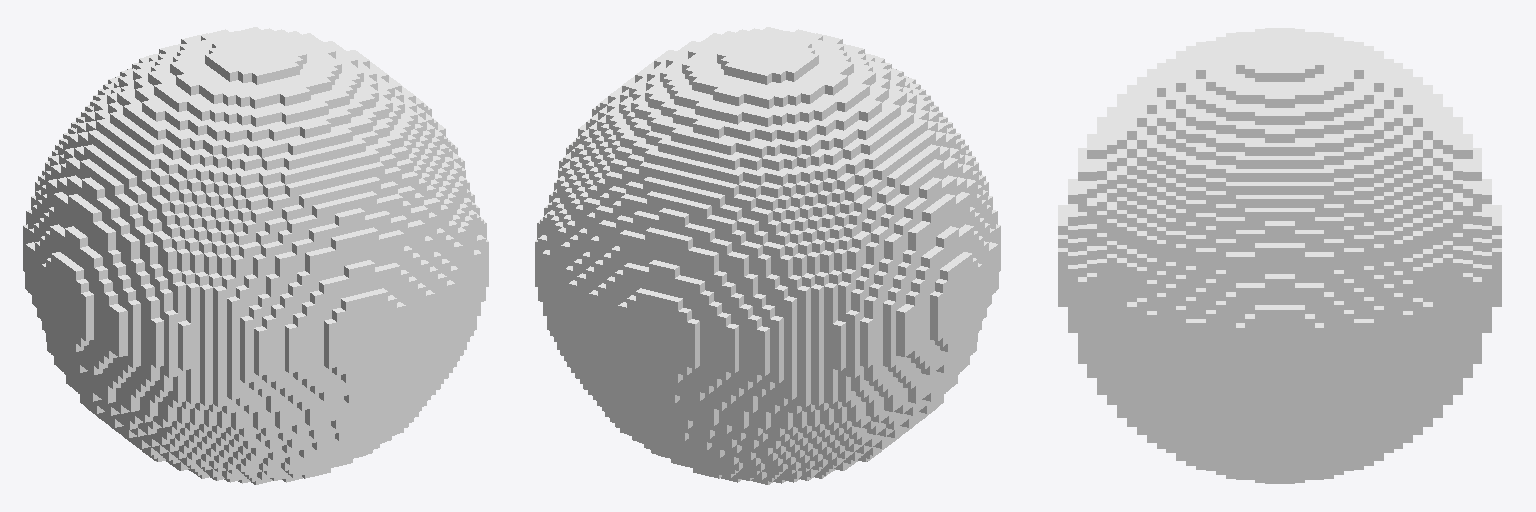
File: Ball2.obj
The picture shows the model from 3 angles: view 1: azimuth 30°, elevation 25°; view 2: azimuth 150°, elevation 25°; view 3: azimuth 270°, elevation 25°; orthographic projection.
Bounding box in the file's own units: 45 × 45 × 45.